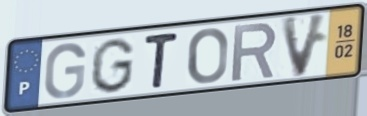G: (87, 36, 137, 96), (41, 40, 88, 101)
O: (186, 25, 230, 86)
R: (229, 21, 280, 84)
T: (143, 30, 181, 90)
V: (279, 11, 331, 81)
